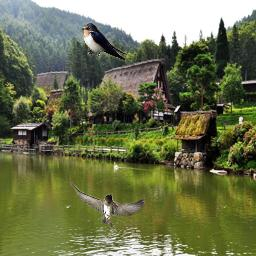Swallow: (70, 182, 146, 227), (80, 22, 127, 62)
